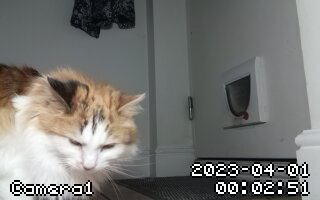clara: (1, 61, 148, 194)
